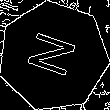N_E: (23, 29, 84, 84)
